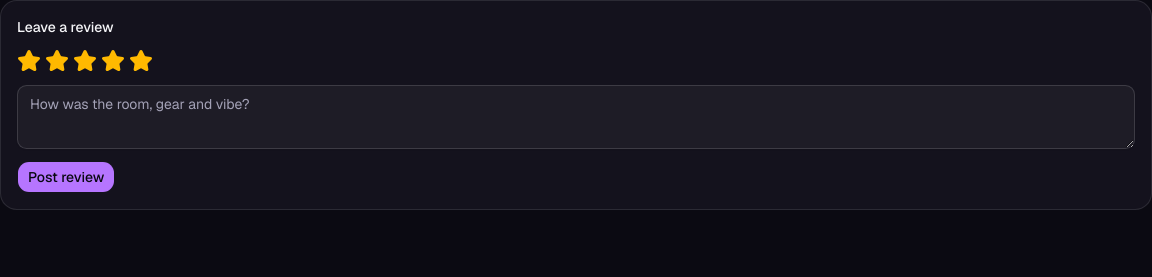
Test: ReviewForm › renders an error returned by the action
This screenshot has width=1152, height=277.
Click the button "Post review".
click(66, 177)  # box [17, 161, 115, 193]
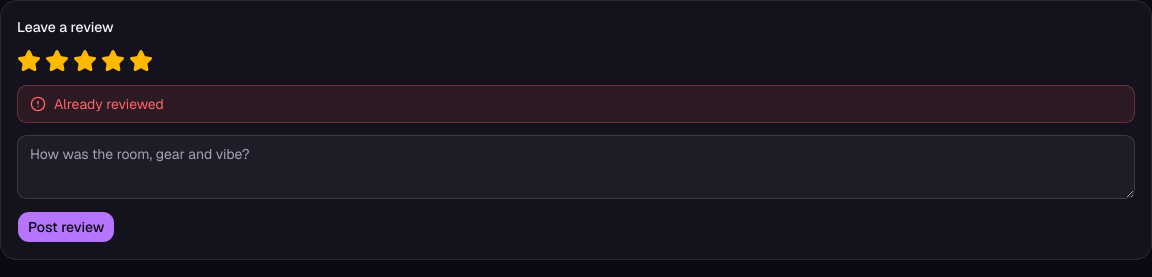
Result: the text "Already reviewed" is shown at [54, 94, 164, 114]
